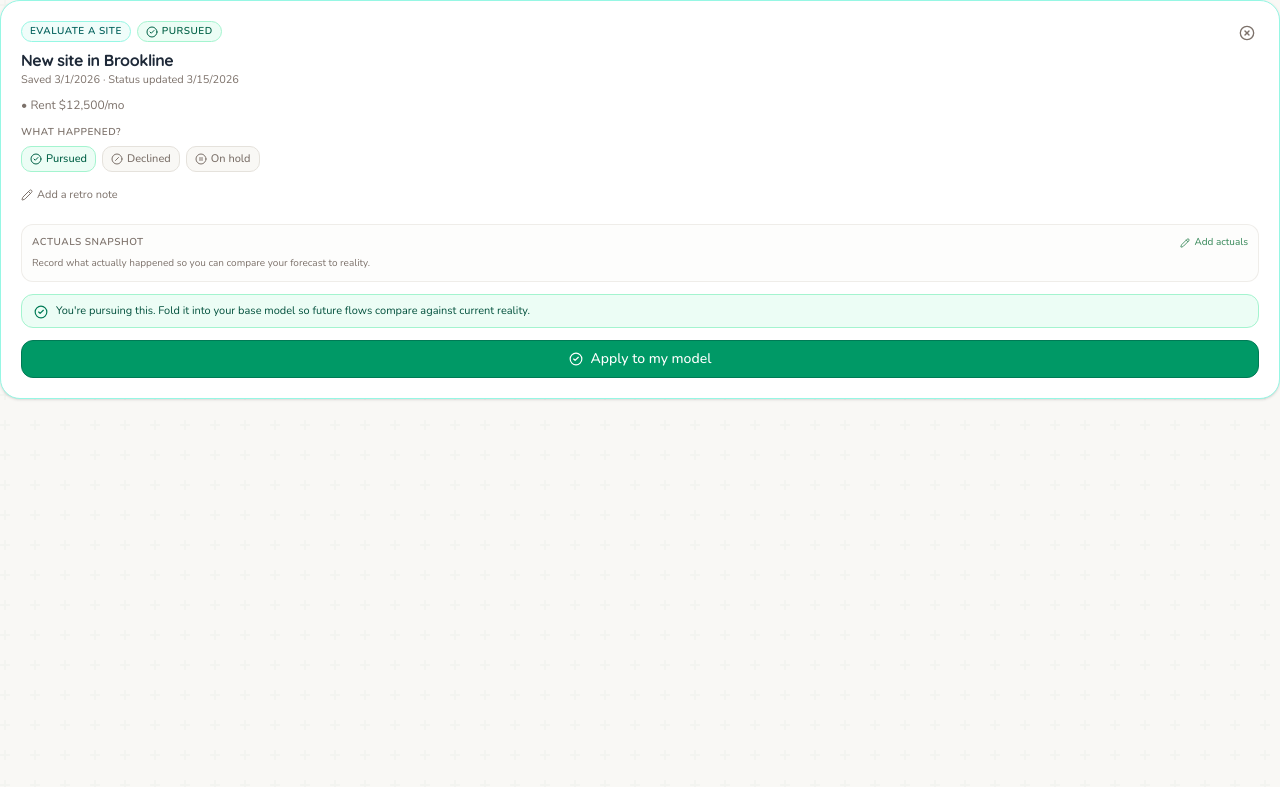
Scenario: CustomScenarioCard — export callout & replace-export deep-link › renders the callout with filename + upload date after suggesting from the export
Click the button with test id "custom-scenario-actuals-edit-0" at [1214, 242], box [1180,235,1248,250]
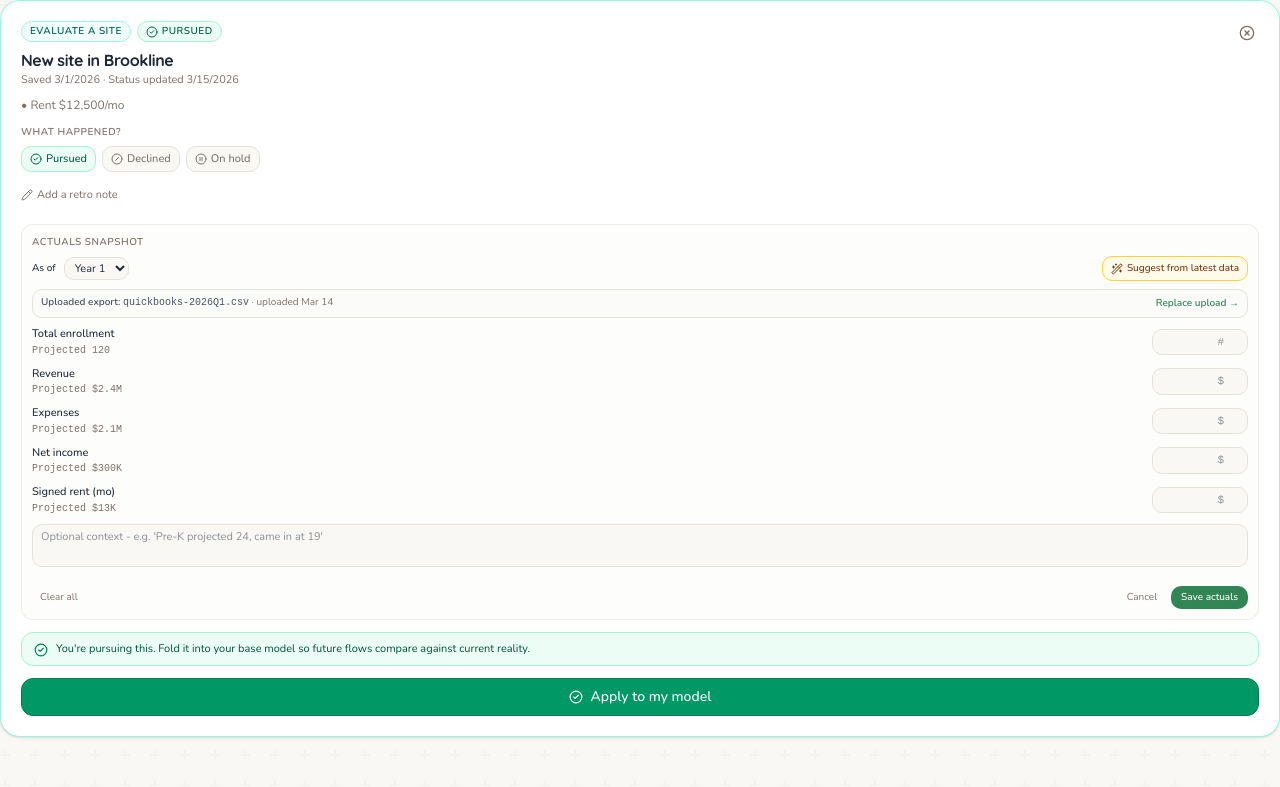
Click the button with test id "custom-scenario-actuals-suggest-0" at [1175, 268], box [1102,256,1248,281]
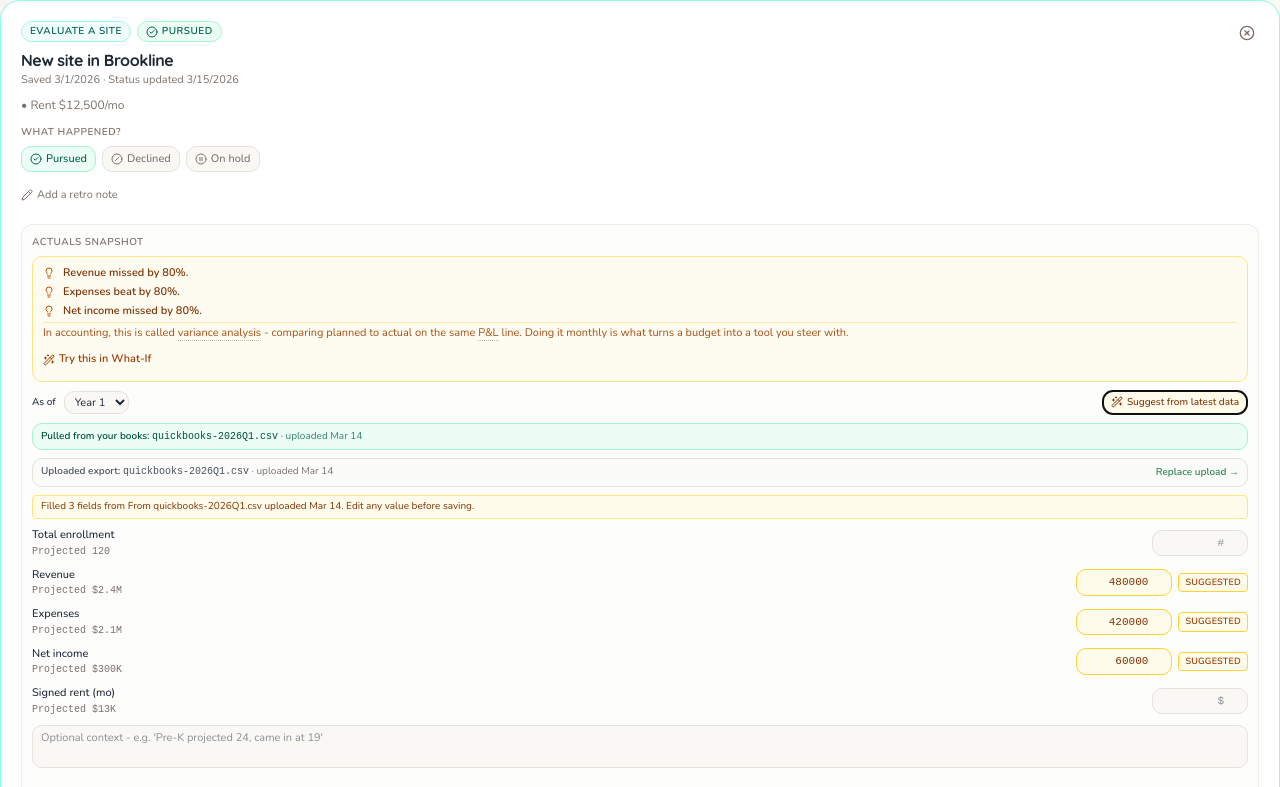
expect the element with test id "custom-scenario-actuals-export-source-0" is shown: met, box [32,422,1248,450]
expect the element with test id "custom-scenario-actuals-export-source-0" shows "Pulled from your books": met, box [41,428,149,442]
expect the text with test id "custom-scenario-actuals-export-filename-0" reads "quickbooks-2026Q1.csv": met, box [152,430,278,442]
